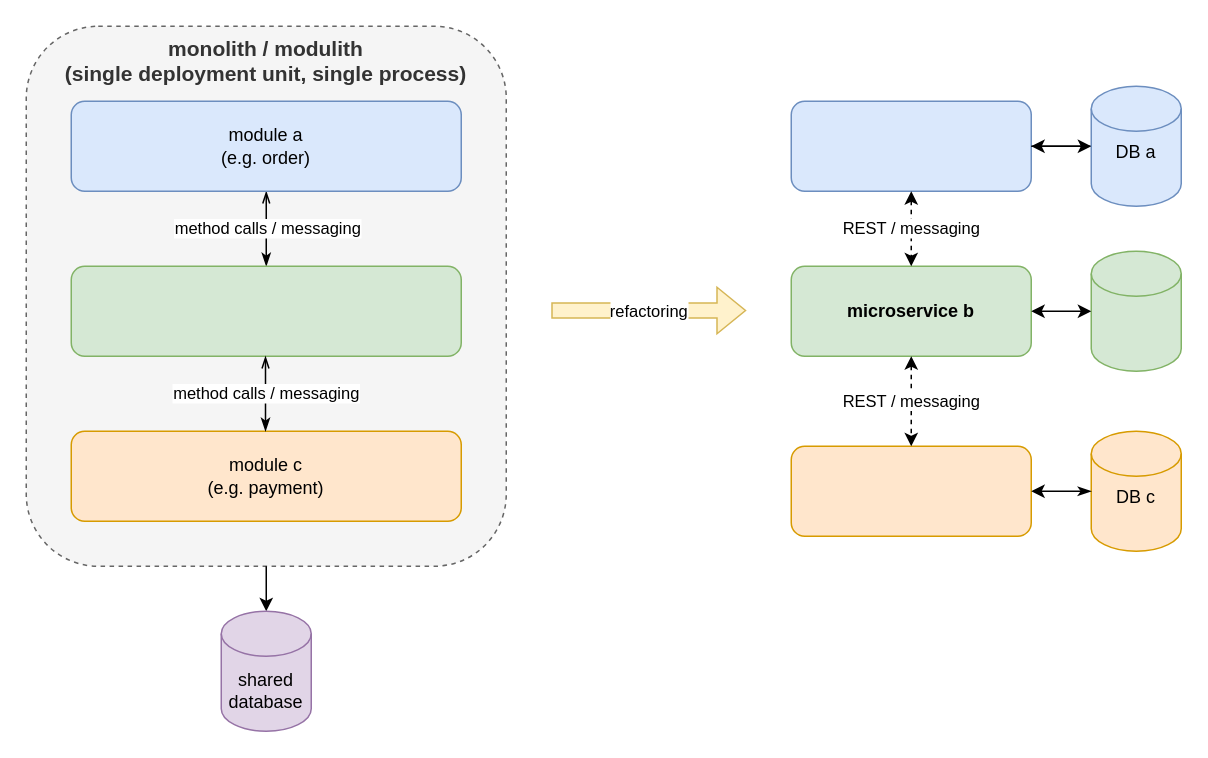
Some shapes in this 1208 by 758 pixel diagram are drawn without their labels. The box of each missing label's shape, as (x1, y1, x2, y2) in pixels:
DB b: (1090, 250, 1181, 371)
microservice a: (790, 100, 1031, 191)
microservice c: (790, 445, 1031, 536)
module b (e.g. inventory): (70, 265, 461, 356)
